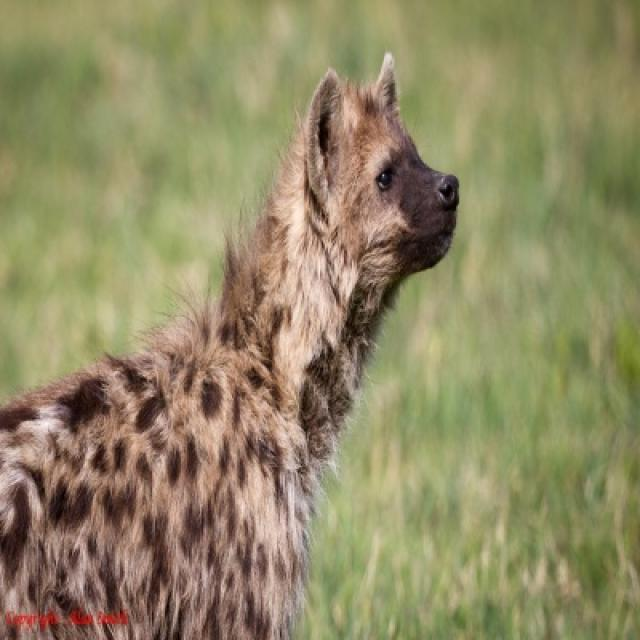hyena: (0, 53, 458, 638)
